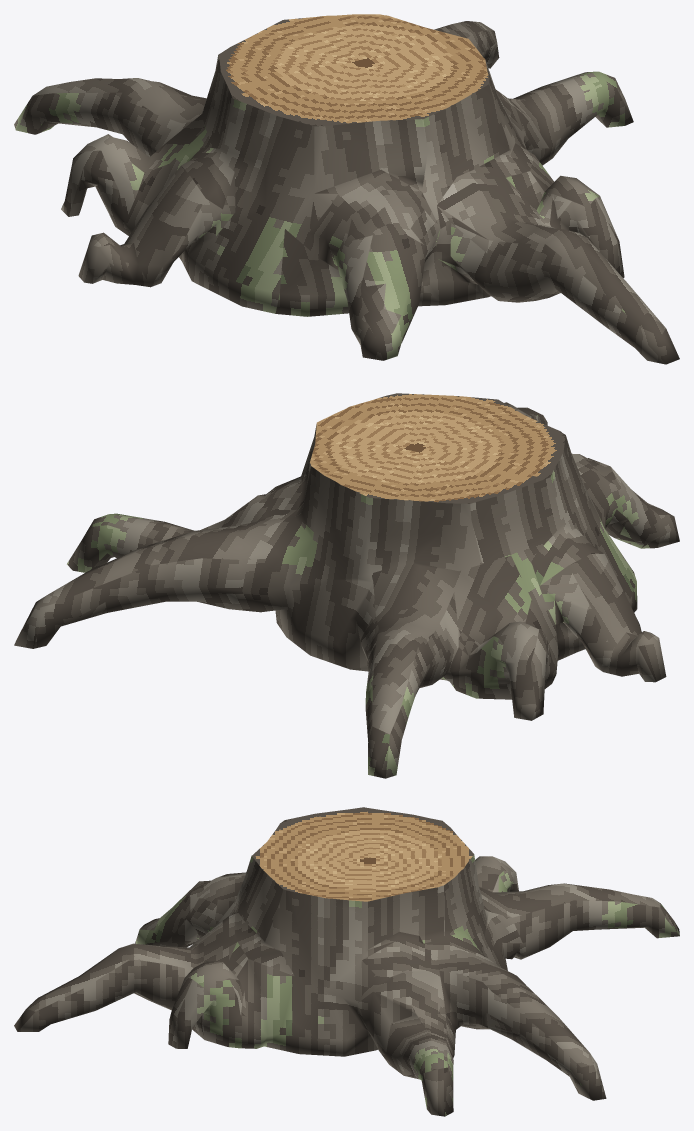
Rendered from environment_elm4_stump_v57.fbx.
The picture shows the model from 3 angles, top to bottom: view 1: azimuth 30°, elevation 25°; view 2: azimuth 150°, elevation 25°; view 3: azimuth 270°, elevation 25°; orthographic projection. The views are drawn at different scales.
Visible parts, largest first — view 1: environment_elm4_stump_v57; view 2: environment_elm4_stump_v57; view 3: environment_elm4_stump_v57.
Part boxes in pixels (x1,y1,x2,y2): environment_elm4_stump_v57: (14, 14, 679, 364); environment_elm4_stump_v57: (14, 393, 679, 778); environment_elm4_stump_v57: (14, 807, 679, 1116).
Size of the model in its own units: 432 by 115 by 527.
2 materials, 2 textured.
